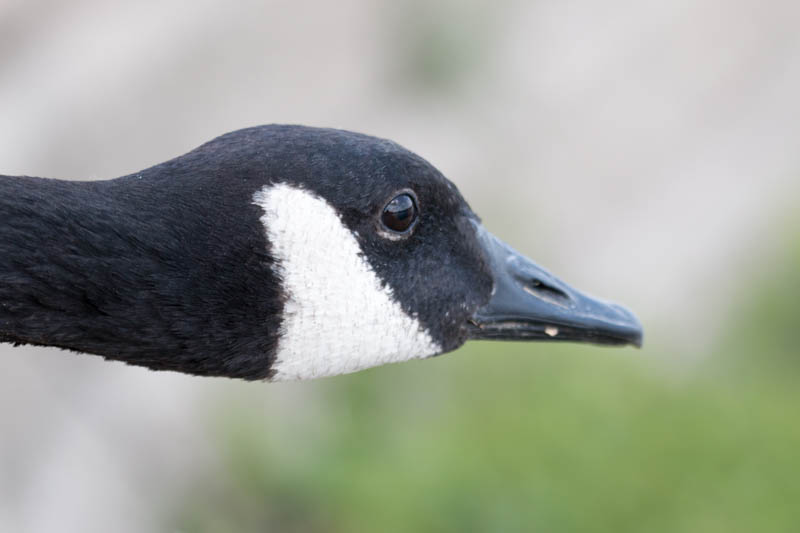goose-head: (133, 122, 644, 383)
